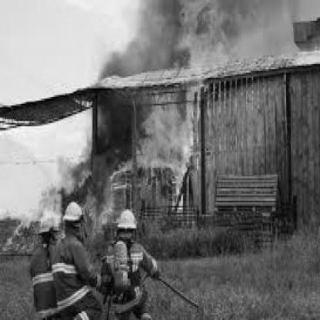Fire: (110, 85, 199, 202), (176, 0, 245, 68)
Smoke: (93, 2, 180, 72)
other: (27, 282, 95, 314), (26, 260, 80, 284), (117, 206, 135, 236), (64, 200, 82, 227), (36, 209, 56, 233), (103, 246, 115, 272), (128, 247, 140, 270)
